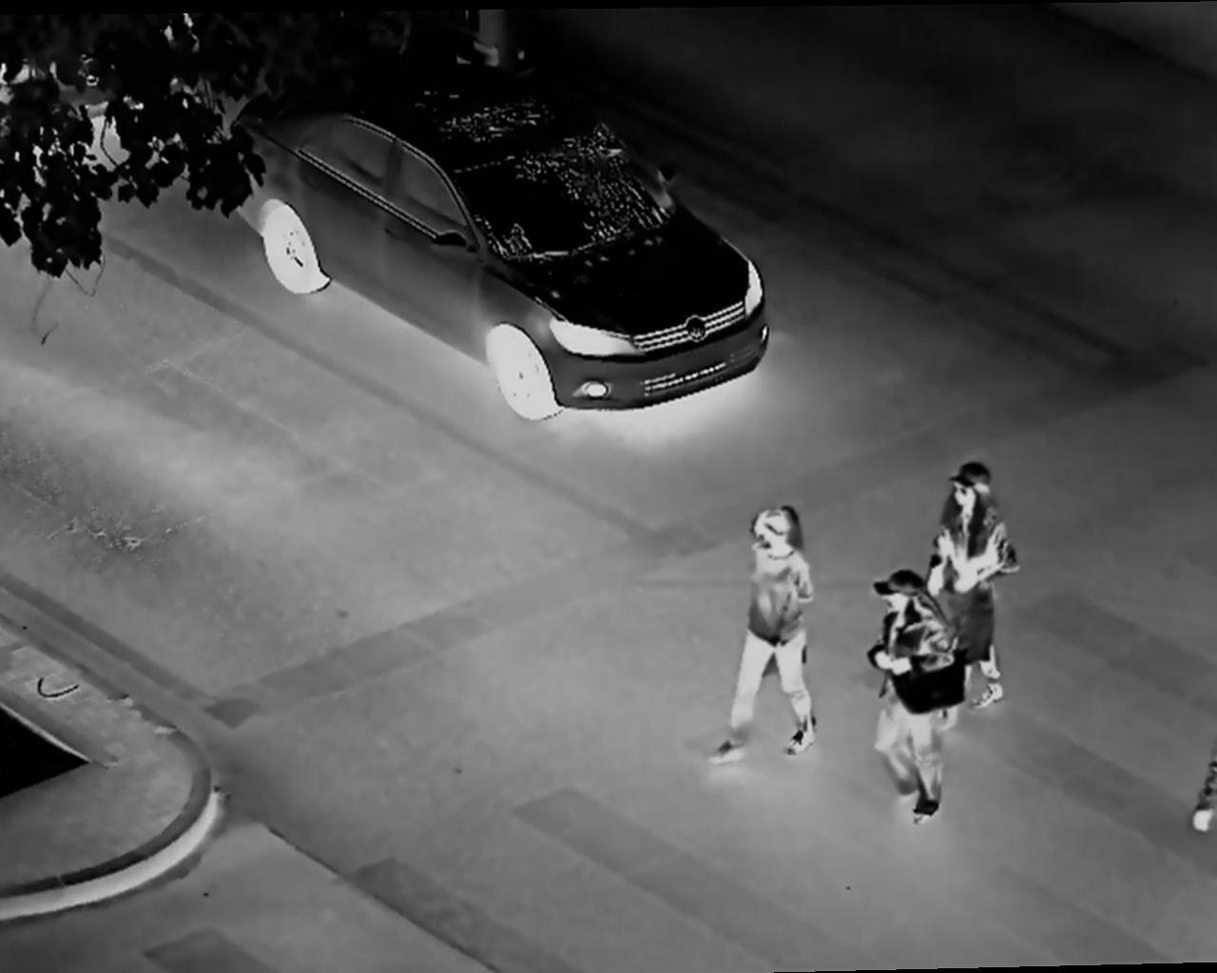person: (710, 503, 822, 782), (930, 461, 1021, 712), (872, 562, 960, 819)
